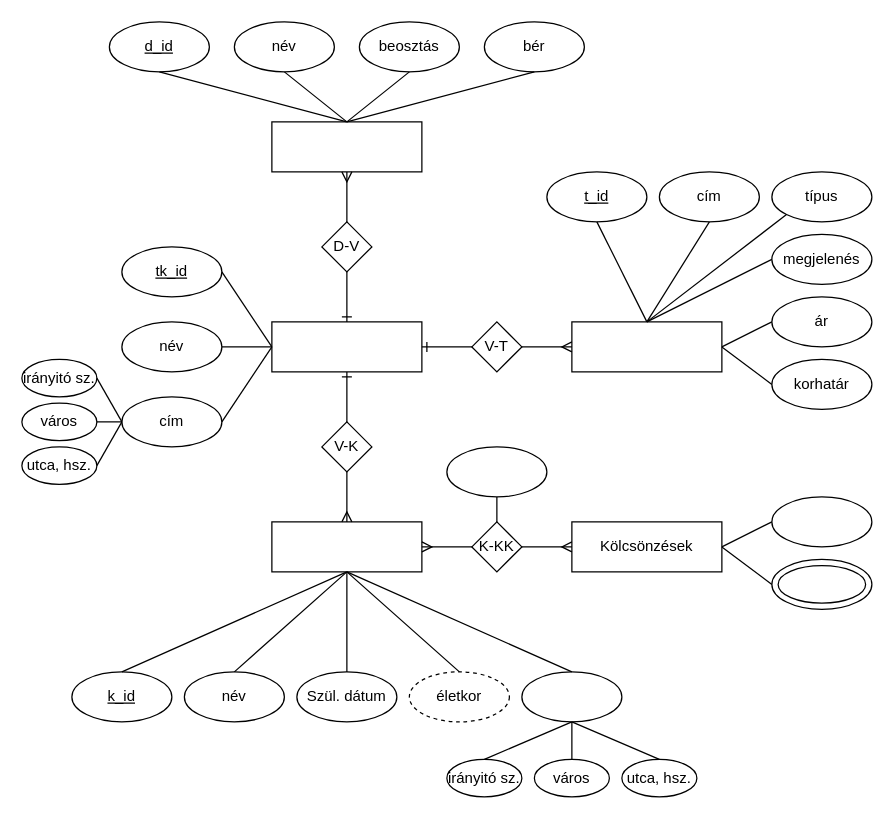
The diagram is 894 pixels wide and 819 high, and some of its shapes have lost their labels. The shapes that lost their labels are listed below. From the top down, each one's box as (x1, y1, x2, y2) in pixels, then its label:
(271, 121, 422, 172): Dolgozó
(271, 321, 422, 372): Videótéka
(571, 321, 722, 372): Tételek
(446, 446, 547, 497): időpont
(771, 496, 872, 547): kk_id
(271, 521, 422, 572): Kuncsaft
(777, 564, 866, 603): k_tételek
(521, 671, 622, 722): lakcím
